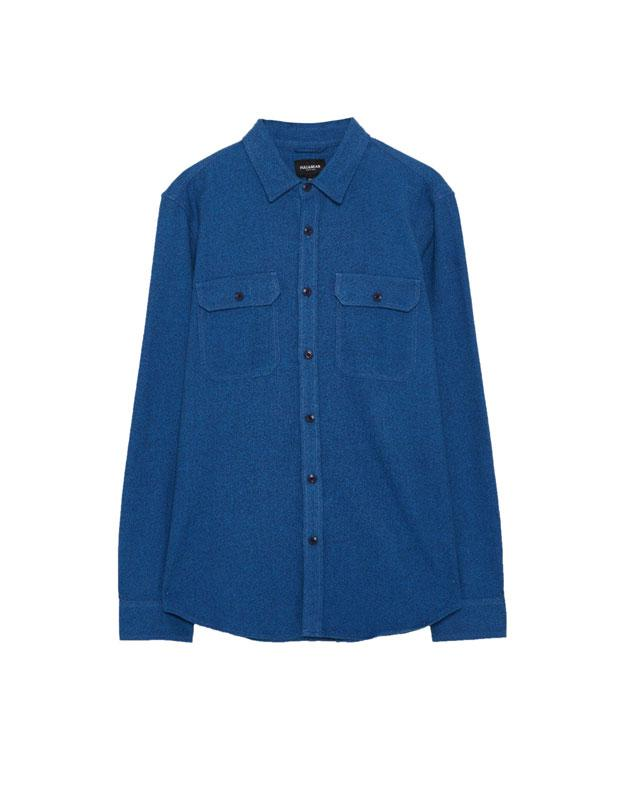teeshirt: (105, 112, 524, 655)
